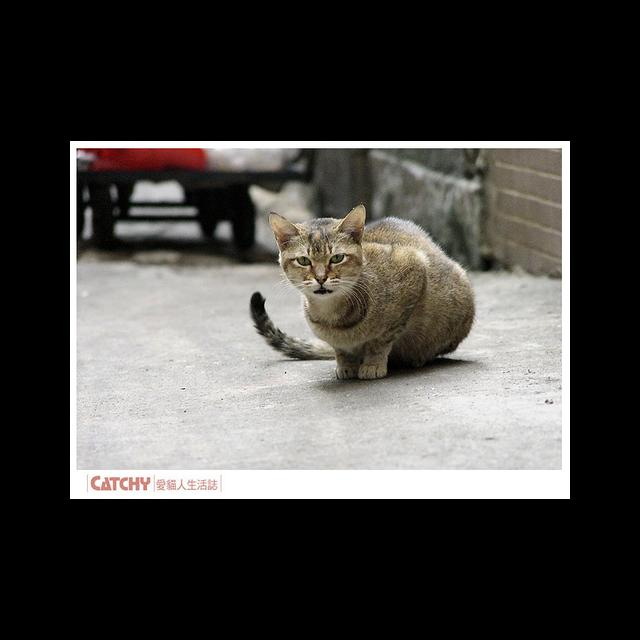animals: (270, 205, 363, 283)
